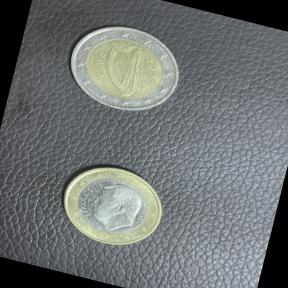coin: (53, 11, 195, 130), (48, 150, 176, 260)
